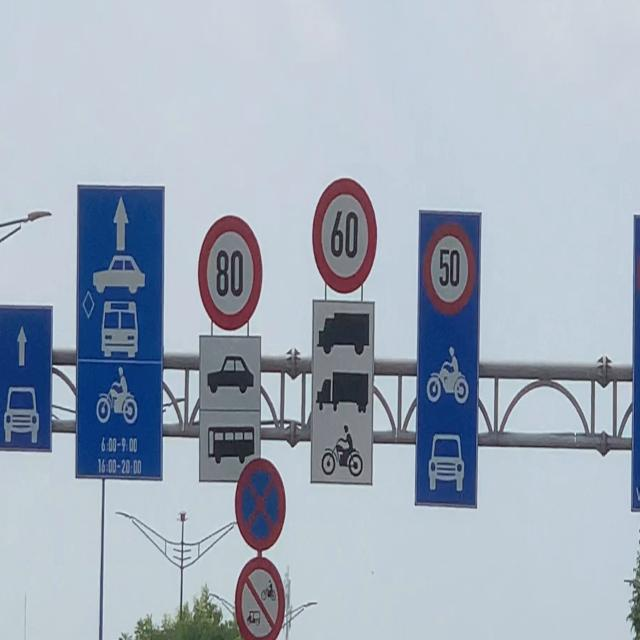Cam dung va do: (233, 455, 288, 553)
Toc do toi da: (305, 173, 384, 295), (196, 208, 268, 332), (417, 218, 481, 322)
